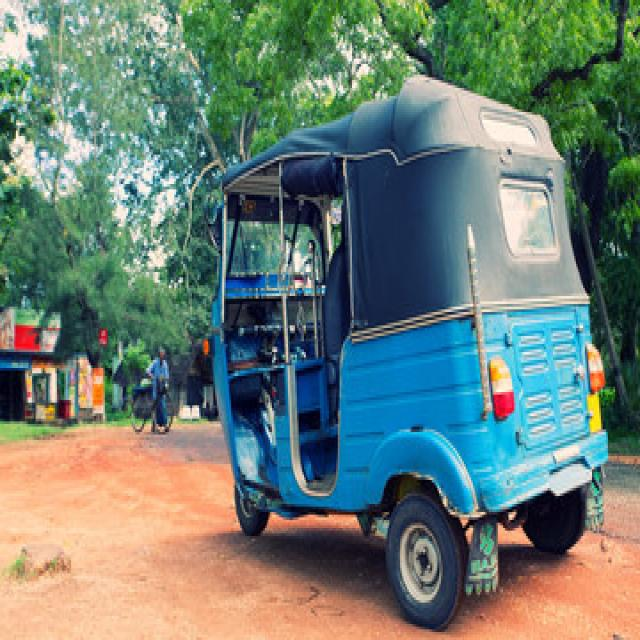bicycle: (132, 379, 172, 432)
person: (148, 349, 167, 429)
three wheeler: (213, 77, 606, 627)
